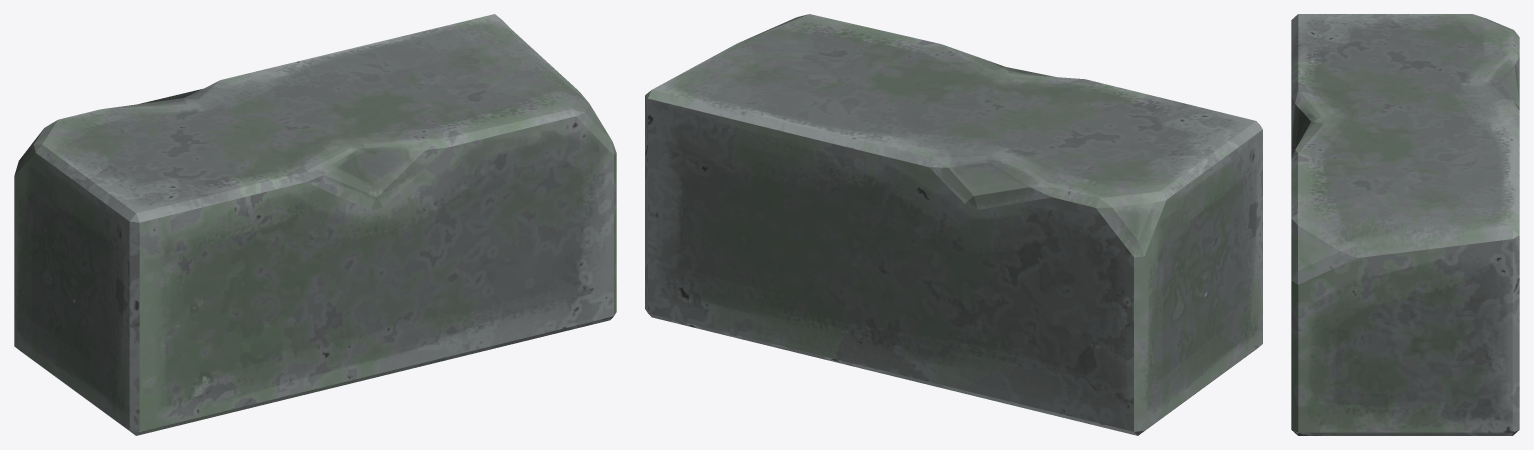
Rendered from roadcube05.fbx.
The picture shows the model from 3 angles, left to right: view 1: azimuth 30°, elevation 25°; view 2: azimuth 150°, elevation 25°; view 3: azimuth 270°, elevation 25°; orthographic projection. The views are drawn at different scales.
Visible parts, largest first — view 1: roadcube05; view 2: roadcube05; view 3: roadcube05.
Part boxes in pixels (bbox=[...]): roadcube05: bbox=[14, 14, 616, 435]; roadcube05: bbox=[645, 14, 1262, 435]; roadcube05: bbox=[1291, 14, 1519, 435].
Size of the model in its own units: 383 by 167 by 167.
